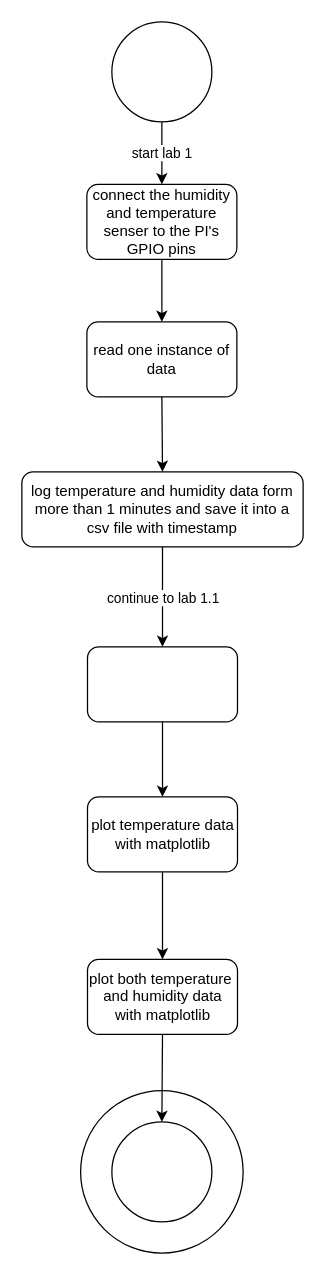
Image size: 325x1275. Some labels were removed from this diagram. Here are the shapes that lost their labels. From the top down, the centre of each, then its label:
At point 161,71: "start".
At point 162,684: "load csv data to google colab".
At point 161,1171: "lab end".
